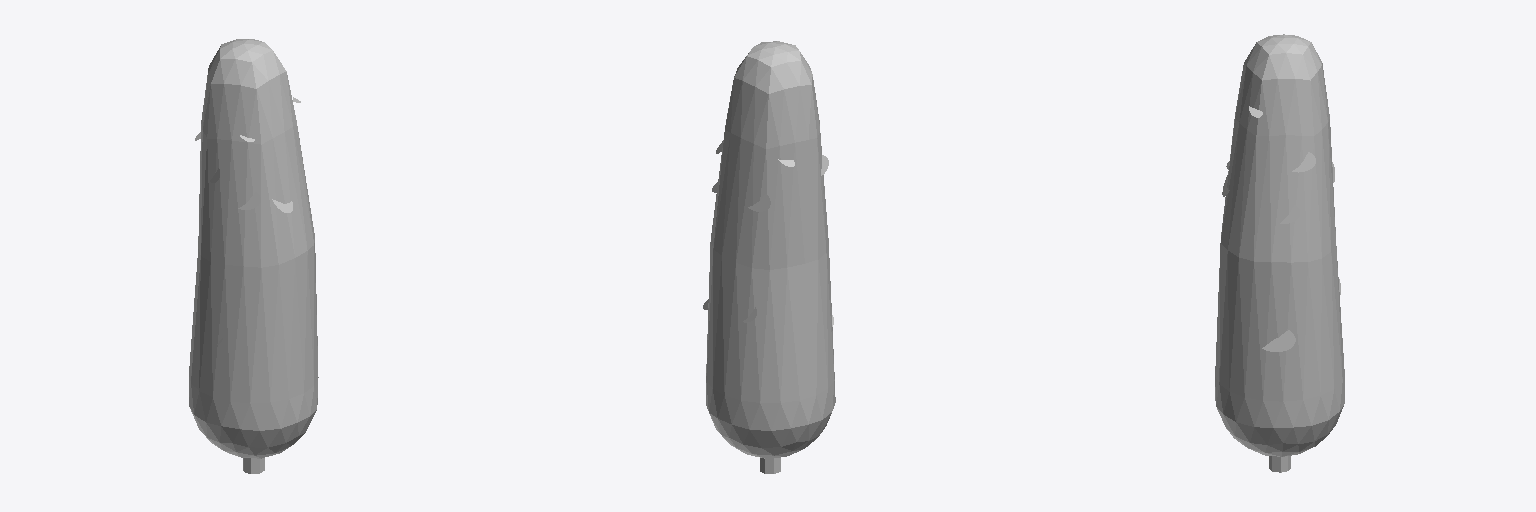
File: Tree4.obj
The picture shows the model from 3 angles: view 1: azimuth 30°, elevation 25°; view 2: azimuth 150°, elevation 25°; view 3: azimuth 270°, elevation 25°; orthographic projection.
Parts seen in each view (by area): view 1: Tree4_Material; view 2: Tree4_Material; view 3: Tree4_Material.
Boxes of the visible parts, x1=… form: Tree4_Material: x1=189, y1=39, x2=318, y2=473; Tree4_Material: x1=703, y1=41, x2=835, y2=473; Tree4_Material: x1=1215, y1=34, x2=1344, y2=472.
Size of the model in its own units: 2.37 by 8.25 by 2.28.